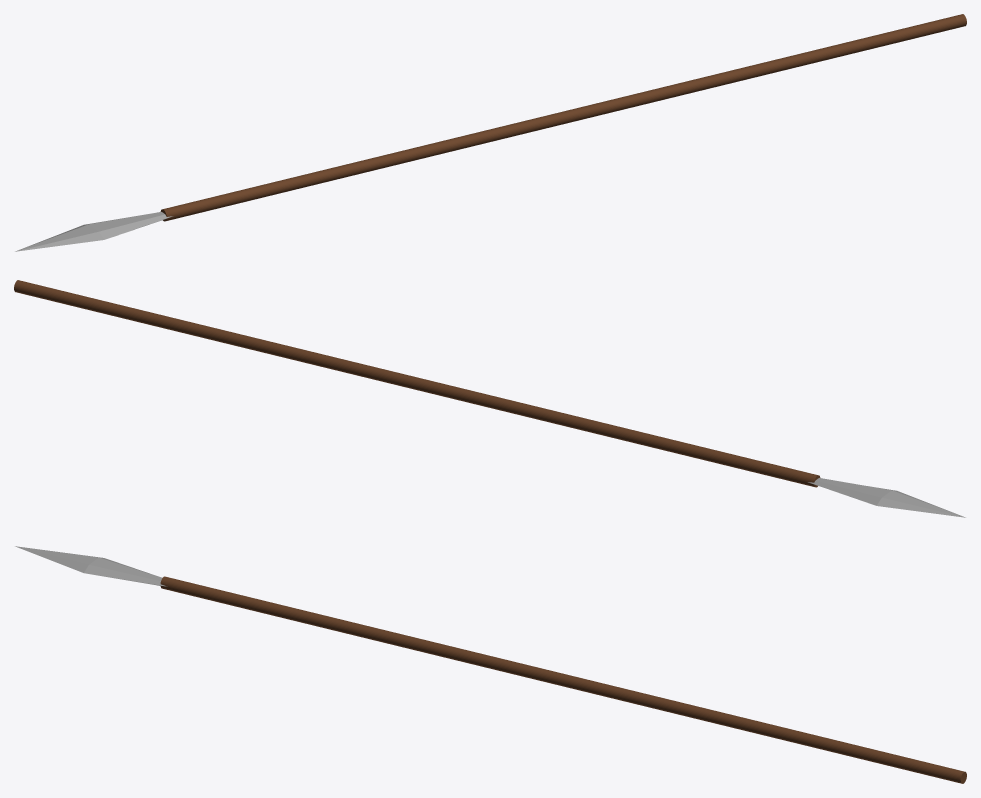
Rendered from spear.fbx.
3 renders of one model, top to bottom at view 1: azimuth 30°, elevation 25°; view 2: azimuth 150°, elevation 25°; view 3: azimuth 330°, elevation 25°, orthographic.
Parts seen in each view (by area): view 1: spear_handle, spear_blade; view 2: spear_handle, spear_blade; view 3: spear_handle, spear_blade.
Part boxes in pixels (x1=…): spear_handle: x1=160, y1=14, x2=966, y2=221; spear_blade: x1=15, y1=212, x2=172, y2=251; spear_handle: x1=14, y1=280, x2=820, y2=487; spear_blade: x1=808, y1=478, x2=965, y2=517; spear_handle: x1=160, y1=576, x2=966, y2=783; spear_blade: x1=15, y1=546, x2=166, y2=586.
Bounding box in the file's own units: 356 × 4.06 × 13.43.
